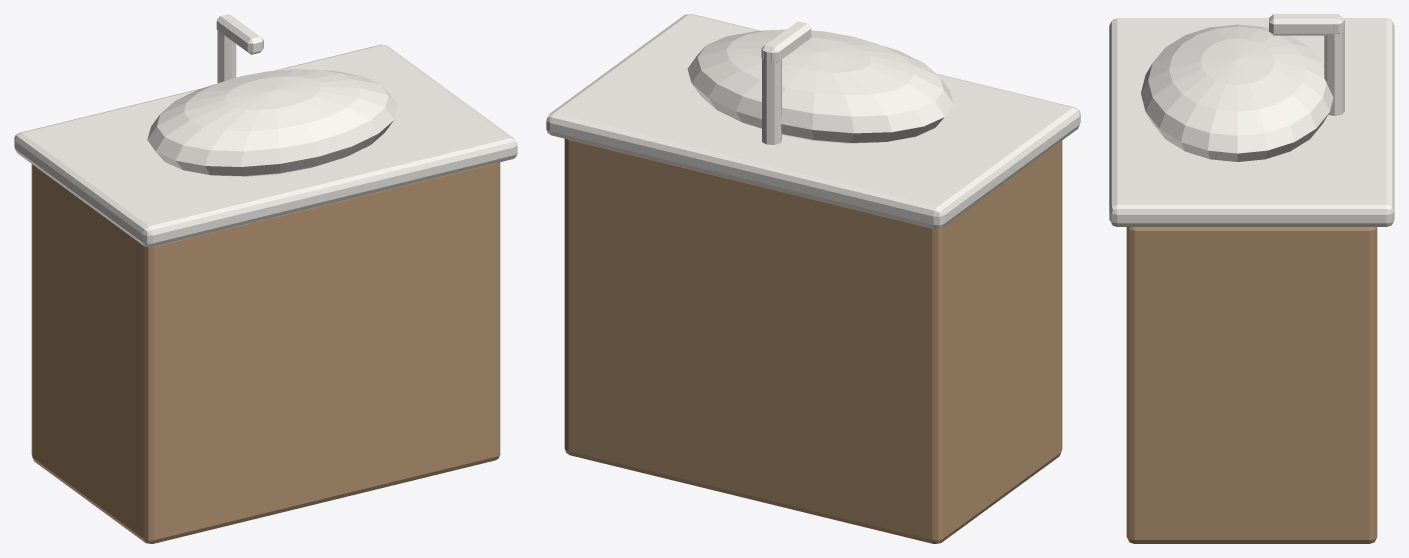
File: medium.glb
The picture shows the model from 3 angles, left to right: view 1: azimuth 30°, elevation 25°; view 2: azimuth 150°, elevation 25°; view 3: azimuth 270°, elevation 25°; orthographic projection. The views are drawn at different scales.
Parts seen in each view (by area): view 1: vanity-basin-compact-medium; view 2: vanity-basin-compact-medium; view 3: vanity-basin-compact-medium.
Part boxes in pixels (x1=…): vanity-basin-compact-medium: x1=14, y1=14, x2=517, y2=543; vanity-basin-compact-medium: x1=546, y1=14, x2=1080, y2=543; vanity-basin-compact-medium: x1=1109, y1=14, x2=1394, y2=543.
Size of the model in its own units: 0.8 by 0.85 by 0.5.
